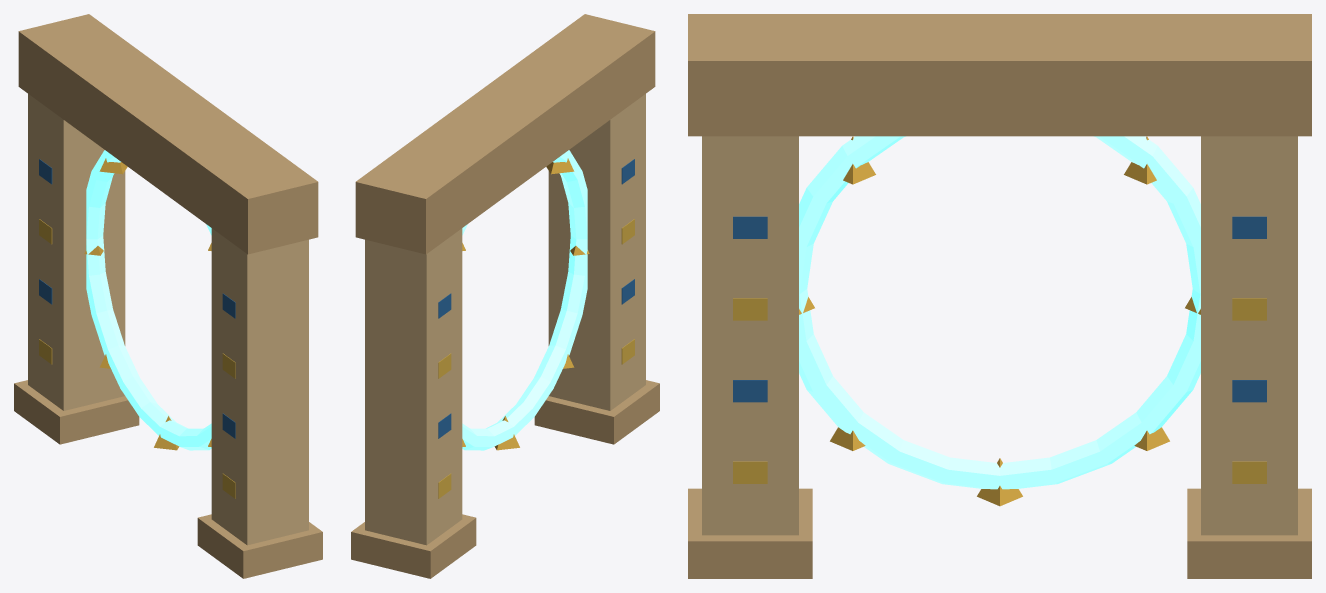
The model's file is teleportport.glb.
3 views of the same model, side by side, from view 1: azimuth 30°, elevation 25°; view 2: azimuth 150°, elevation 25°; view 3: azimuth 270°, elevation 25° (orthographic). The views are drawn at different scales.
Visible parts, largest first — view 1: teleportport; view 2: teleportport; view 3: teleportport.
Boxes of the visible parts, x1,y1,x2,y2 form: teleportport: (14, 14, 322, 578); teleportport: (351, 14, 659, 578); teleportport: (688, 14, 1311, 578).
Bounding box in the file's own units: 1.8 × 8.2 × 9.
